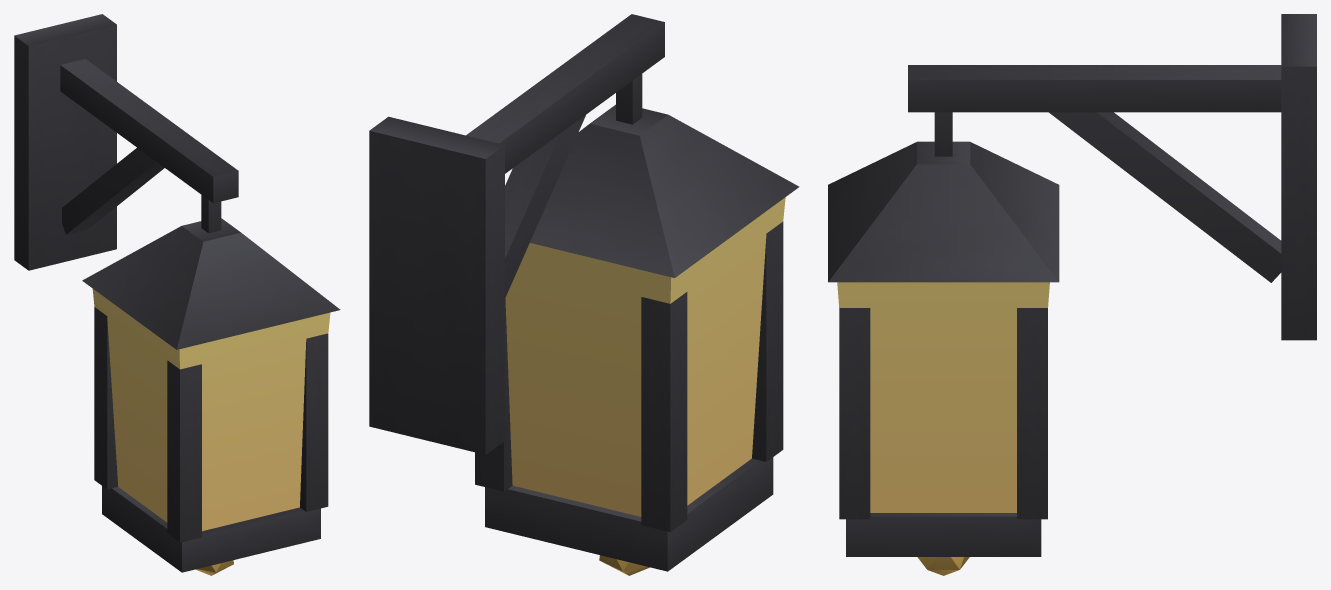
The model's file is prop_lantern_wall_01.glb.
3 views of the same model, side by side, from view 1: azimuth 30°, elevation 25°; view 2: azimuth 150°, elevation 25°; view 3: azimuth 270°, elevation 25° (orthographic). The views are drawn at different scales.
Parts seen in each view (by area): view 1: prop_lantern_wall_01; view 2: prop_lantern_wall_01; view 3: prop_lantern_wall_01.
Part boxes in pixels (box(x1,y1,x2,y2)): prop_lantern_wall_01: box(14, 14, 340, 575); prop_lantern_wall_01: box(369, 14, 799, 575); prop_lantern_wall_01: box(828, 14, 1316, 575).
Bounding box in the file's own units: 0.26 × 0.665 × 0.55.
1 material, 1 textured.
